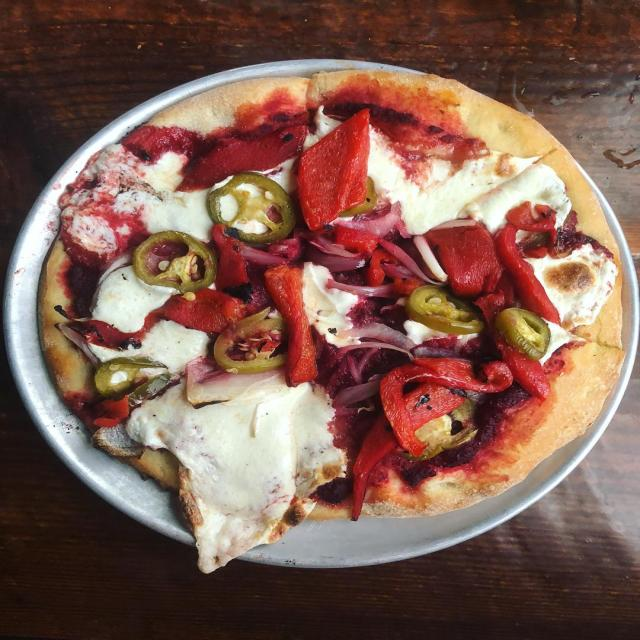peppers: (379, 358, 511, 450), (494, 199, 582, 321), (264, 257, 338, 385), (303, 115, 373, 229), (336, 423, 402, 523), (427, 214, 501, 289), (159, 285, 245, 332), (200, 220, 256, 286), (90, 392, 132, 430)
pizza: (36, 63, 635, 572)
